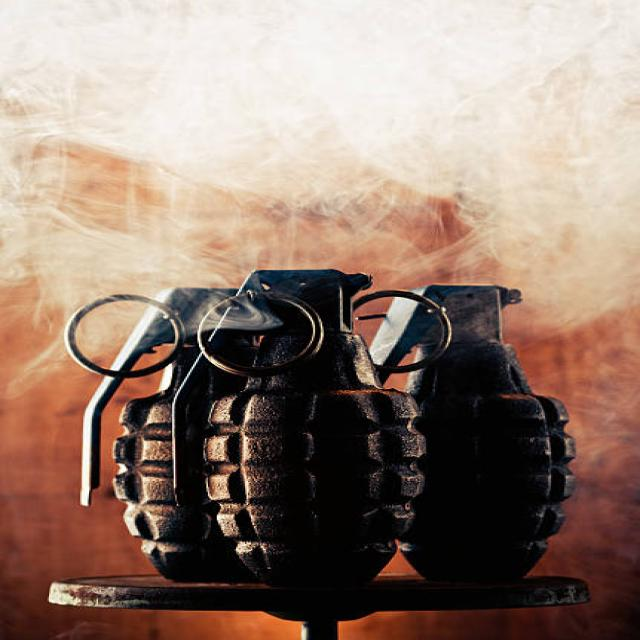grenade: (169, 268, 416, 580), (357, 279, 576, 583)
